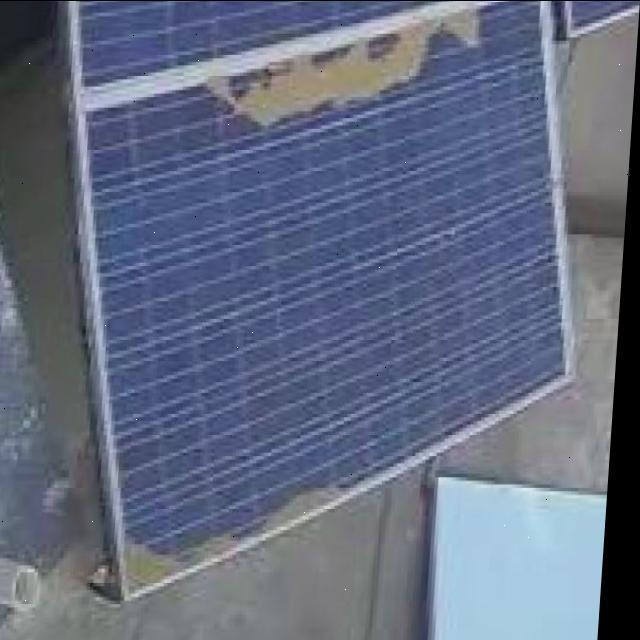Anomaly Solar Panel: (33, 0, 622, 596)
Surface Contaminant: (205, 5, 496, 143), (124, 478, 367, 597)
